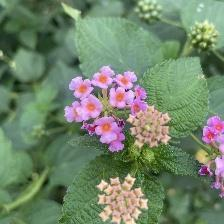common lanthana: (64, 64, 151, 153)
